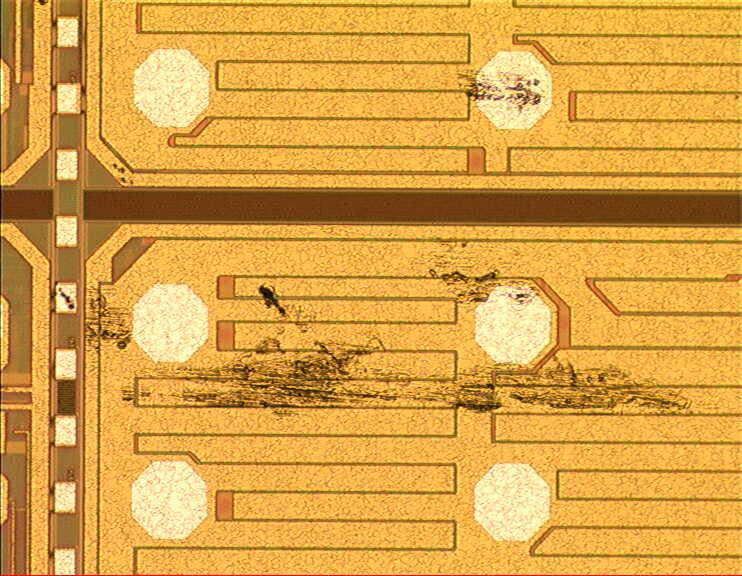SCRATCH: (56, 67, 699, 419)
